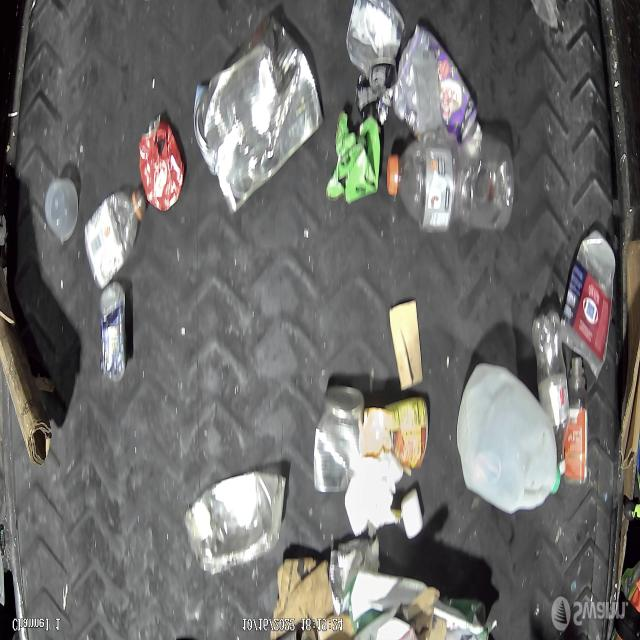can: (193, 16, 324, 212), (314, 385, 364, 495), (366, 396, 430, 472), (139, 115, 185, 214), (329, 540, 382, 610)
milk_jug: (456, 362, 562, 513)
plastic_bottle: (386, 132, 516, 232), (83, 187, 147, 289), (532, 310, 570, 474)
